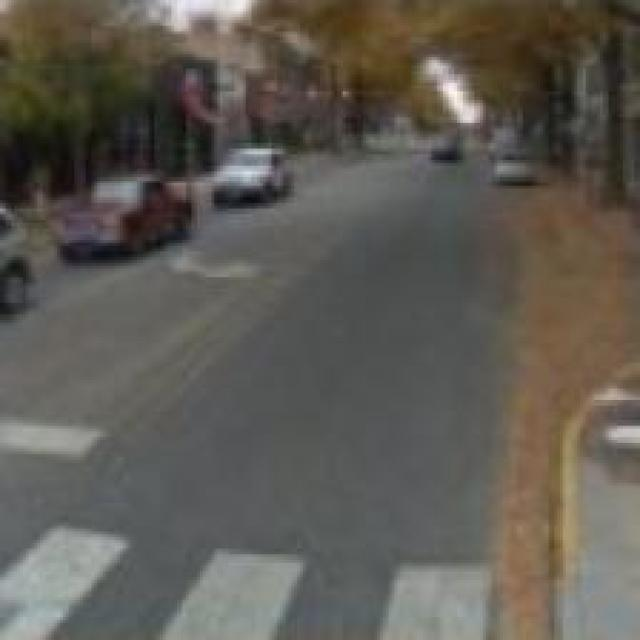walk-crossing: (27, 463, 636, 634)
